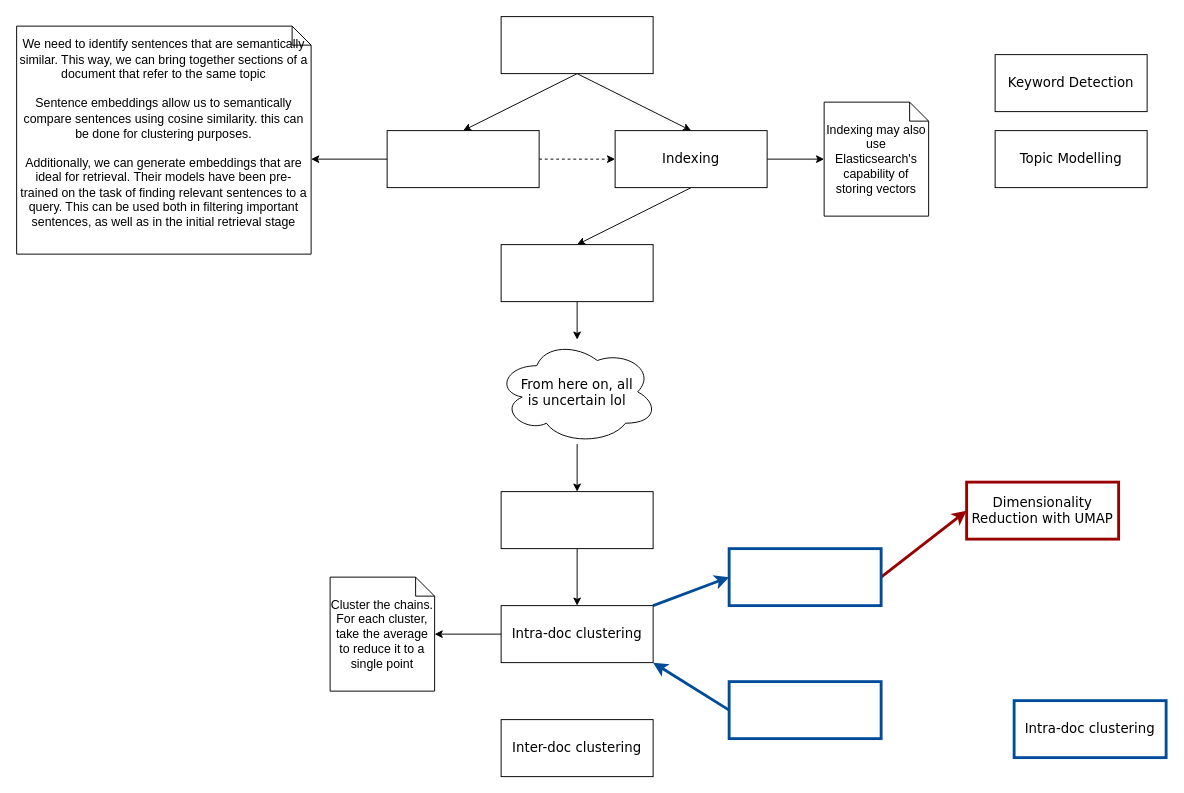
The diagram is 1184 pixels wide and 793 high, and some of its shapes have lost their labels. Here are the shapes that lost their labels. From the top down, the centre of each, then its label:
point (576, 45): Dataset
point (462, 159): Embeddings
point (576, 273): Retrieival
point (576, 520): Sentence Chaining
point (804, 577): Receive chains
point (804, 710): Average each cluster
